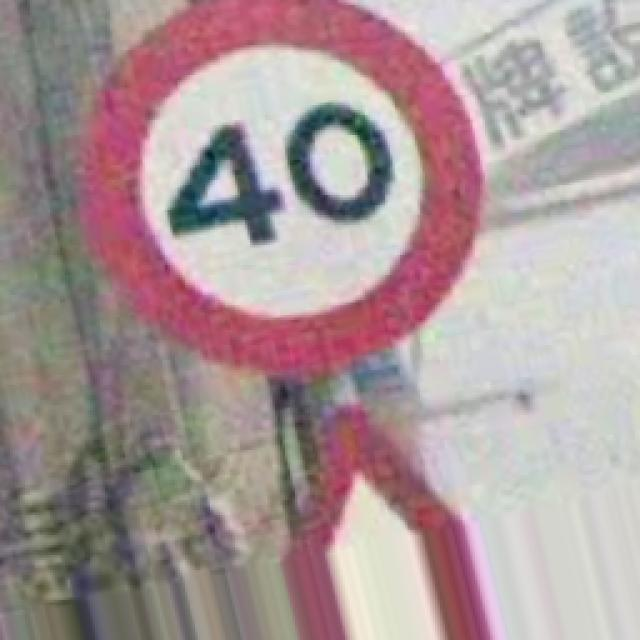Speed Limit -40-: (82, 0, 482, 375)
